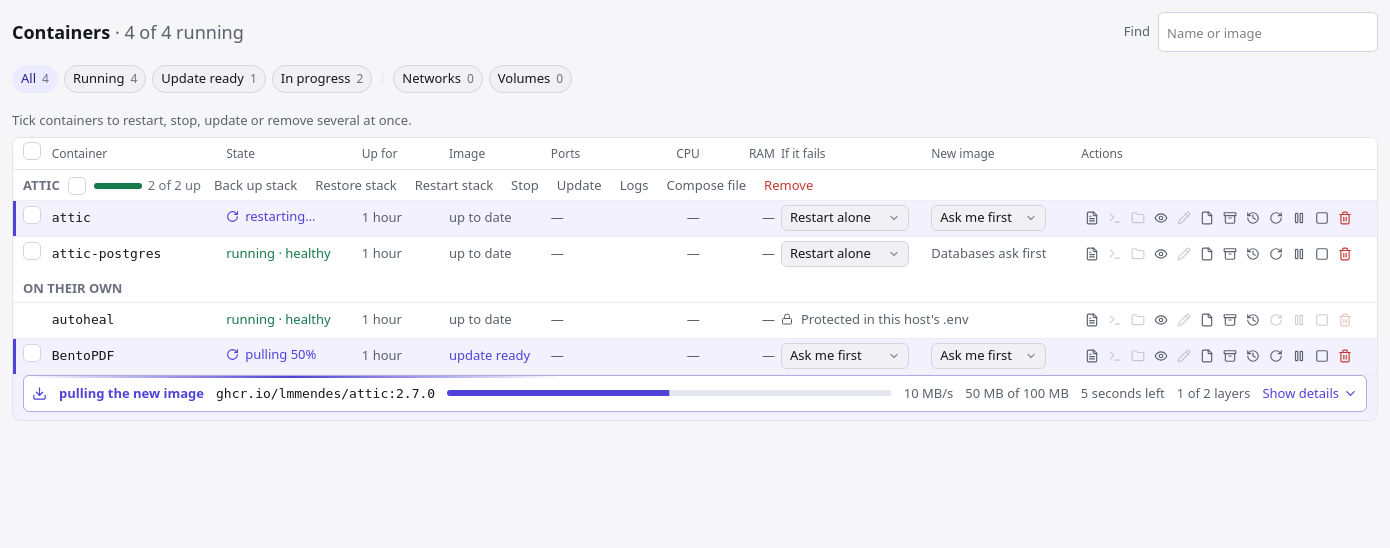
it: a host's containers and what each does › shows what each row's job is doing, an update's pull under its row, and each kind of container apart
Expected: the text "restarting…" is shown, x1=226 y1=207 x2=316 y2=227
Expected: the text "pulling 50%" is shown, x1=226 y1=345 x2=316 y2=365
Click the button "Show details": (1310, 393) x1=1262 y1=384 x2=1358 y2=403
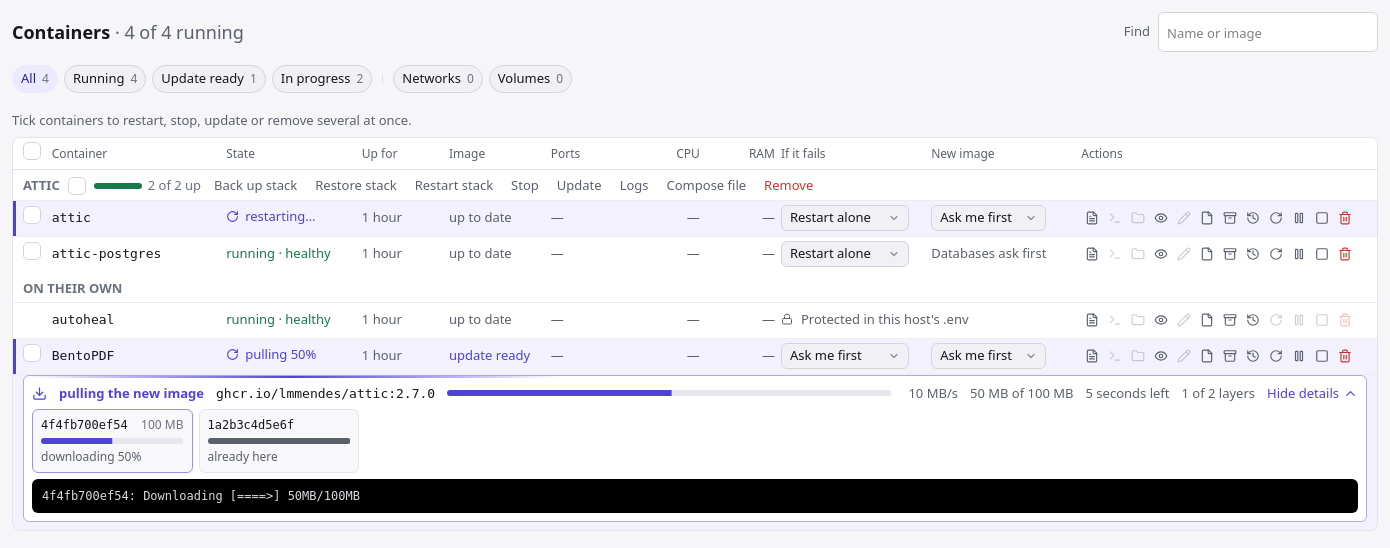
Now the list item "4f4fb700ef54: Downloading [====>] 50MB/100MB" is shown, box x1=42 y1=489 x2=360 y2=503
Click the button "In progress 2": (322, 78) x1=272 y1=64 x2=372 y2=92
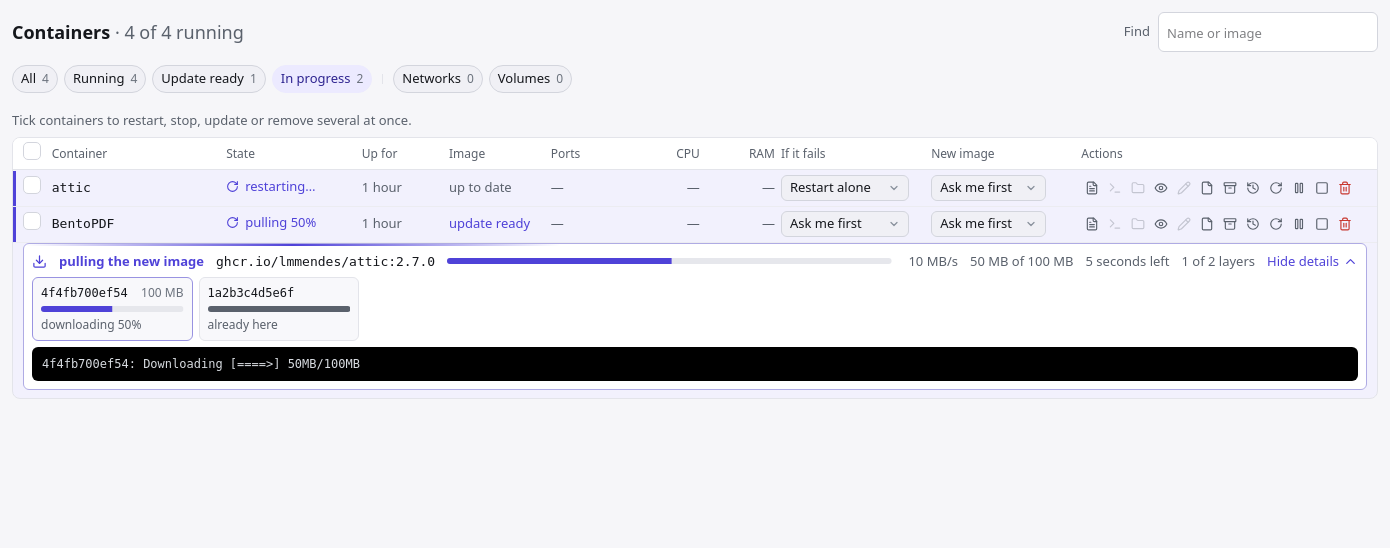
Expected: the button "attic" is shown, x1=52 y1=178 x2=91 y2=198
Now the button "attic-postgres" is gone
